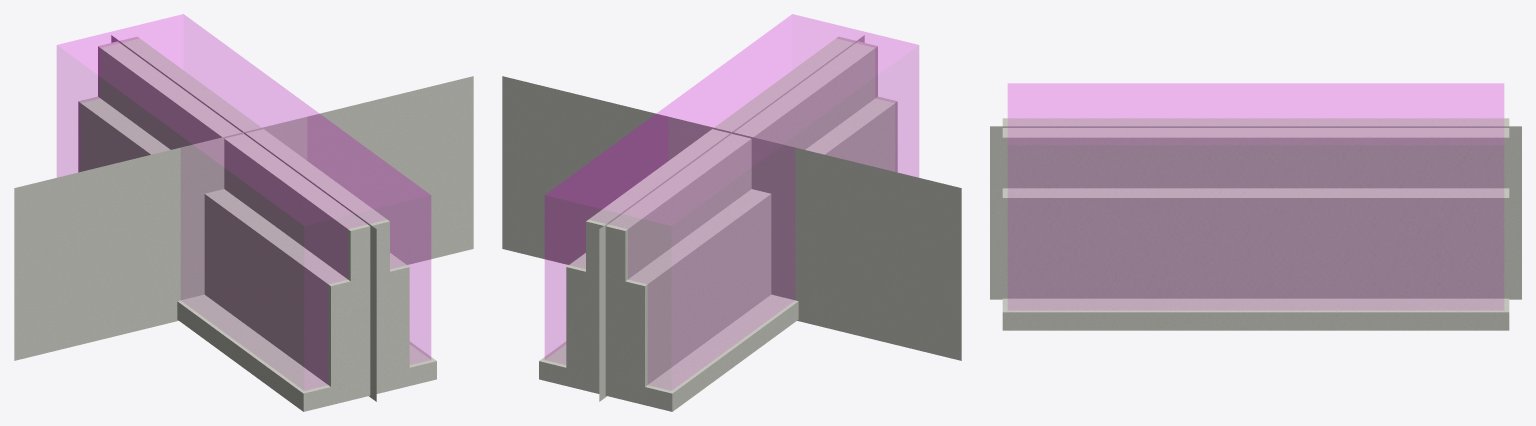
Rendered from krail_white_2m.dae.
The picture shows the model from 3 angles, left to right: view 1: azimuth 30°, elevation 25°; view 2: azimuth 150°, elevation 25°; view 3: azimuth 270°, elevation 25°; orthographic projection.
Parts seen in each view (by area): view 1: Colmesh_krail-1, krail_white_2m_a50, krail_white_2m_a800, krail_white_2m_a200; view 2: Colmesh_krail-1, krail_white_2m_a50, krail_white_2m_a800, krail_white_2m_a200; view 3: krail_white_2m_a800, Colmesh_krail-1, krail_white_2m_a200, krail_white_2m_a50.
Part boxes in pixels (bbox=[...]): Colmesh_krail-1: bbox=[57, 14, 430, 390]; krail_white_2m_a50: bbox=[14, 35, 473, 401]; krail_white_2m_a800: bbox=[78, 36, 436, 411]; krail_white_2m_a200: bbox=[204, 214, 409, 386]; Colmesh_krail-1: bbox=[545, 14, 918, 390]; krail_white_2m_a50: bbox=[502, 35, 961, 401]; krail_white_2m_a800: bbox=[539, 36, 897, 411]; krail_white_2m_a200: bbox=[568, 97, 897, 386]; krail_white_2m_a800: bbox=[1002, 118, 1509, 330]; Colmesh_krail-1: bbox=[1008, 83, 1503, 309]; krail_white_2m_a200: bbox=[1002, 188, 1503, 298]; krail_white_2m_a50: bbox=[990, 126, 1521, 299].
Size of the model in its own units: 2.1 by 2.1 by 0.8074.
Materials: 2 (1 with a texture image).
